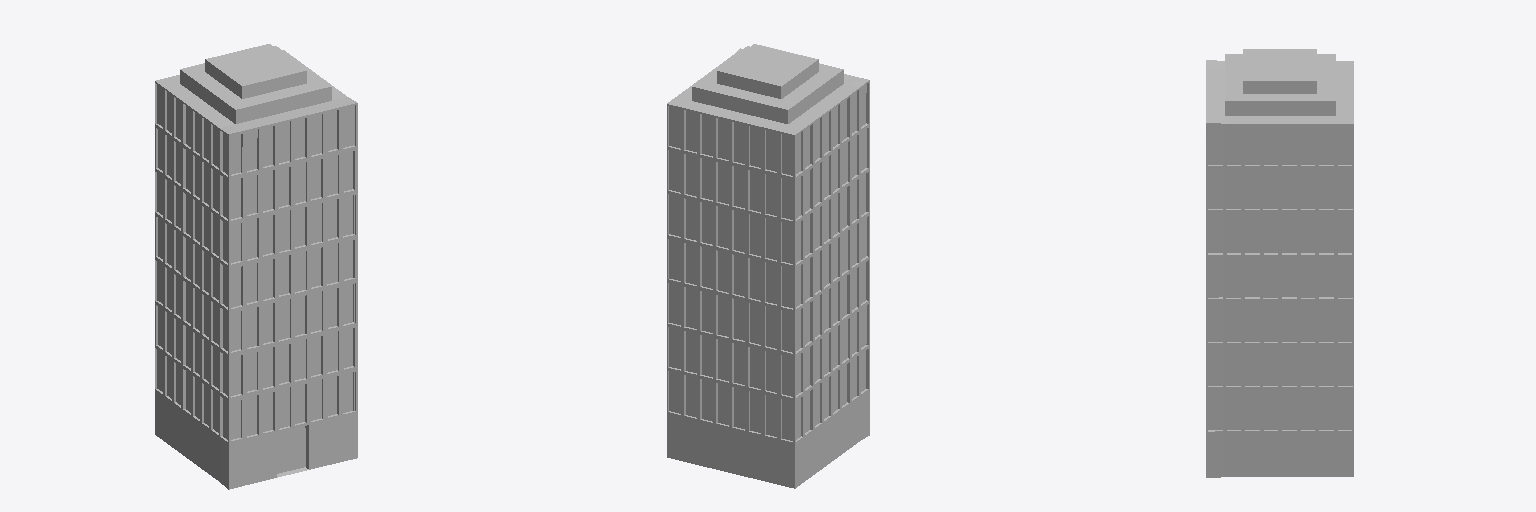
Rendered from SkyScraper2.obj.
3 renders of one model, left to right at view 1: azimuth 30°, elevation 25°; view 2: azimuth 150°, elevation 25°; view 3: azimuth 270°, elevation 25°, orthographic.
Parts seen in each view (by area): view 1: Cube; view 2: Cube; view 3: Cube.
Part boxes in pixels (x1,y1,x2,y2): Cube: (155,44,357,489); Cube: (667,44,869,488); Cube: (1206,49,1353,477).
Bounding box in the file's own units: 2.01 × 5.68 × 2.01.